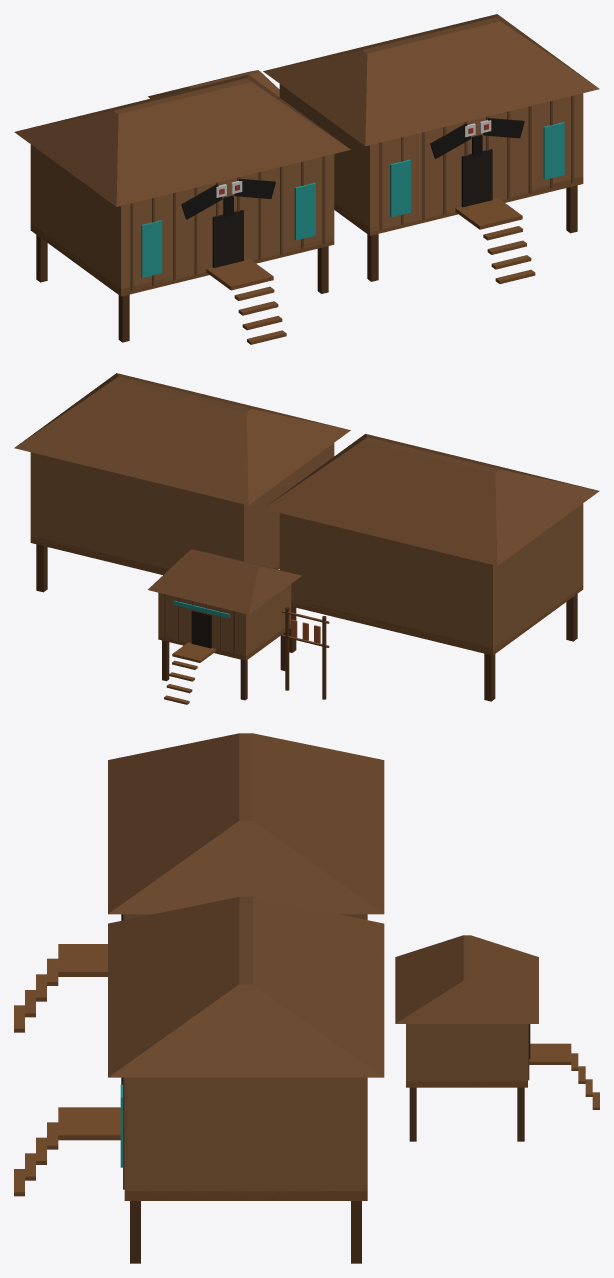
File: bird_row_broken.glb
The picture shows the model from 3 angles, top to bottom: view 1: azimuth 30°, elevation 25°; view 2: azimuth 150°, elevation 25°; view 3: azimuth 270°, elevation 25°; orthographic projection. The views are drawn at different scales.
Parts seen in each view (by area): view 1: bird_row_piece2, bird_row_piece1, bird_row_piece3, bird_row_piece6, bird_row_piece13, bird_row_piece10, bird_row_piece5, bird_row_piece0, bird_row_piece9, bird_row_piece8, bird_row_piece4, bird_row_piece11; view 2: bird_row_piece1, bird_row_piece6, bird_row_piece5, bird_row_piece12, bird_row_piece4, bird_row_piece11, bird_row_piece8, bird_row_piece9, bird_row_piece10, bird_row_piece3, bird_row_piece7, bird_row_piece13 (+1 smaller); view 3: bird_row_piece1, bird_row_piece11, bird_row_piece5, bird_row_piece3, bird_row_piece2, bird_row_piece13, bird_row_piece0, bird_row_piece6, bird_row_piece8, bird_row_piece4, bird_row_piece9, bird_row_piece12 (+1 smaller).
Part boxes in pixels (bbox=[...]): bird_row_piece2: bbox=[162, 86, 309, 344]; bird_row_piece1: bbox=[319, 14, 599, 233]; bird_row_piece3: bbox=[260, 57, 525, 232]; bird_row_piece6: bbox=[14, 111, 159, 282]; bird_row_piece13: bbox=[271, 110, 535, 283]; bird_row_piece10: bbox=[88, 141, 193, 342]; bird_row_piece5: bbox=[97, 77, 257, 169]; bird_row_piece0: bbox=[255, 84, 443, 280]; bird_row_piece9: bbox=[261, 44, 436, 216]; bird_row_piece8: bbox=[188, 75, 334, 293]; bird_row_piece4: bbox=[263, 51, 512, 202]; bird_row_piece11: bbox=[191, 70, 279, 96]; bird_row_piece1: bbox=[14, 373, 232, 592]; bird_row_piece6: bbox=[372, 470, 599, 701]; bird_row_piece5: bbox=[327, 437, 525, 625]; bird_row_piece12: bbox=[212, 560, 359, 700]; bird_row_piece4: bbox=[145, 429, 265, 574]; bird_row_piece11: bbox=[148, 502, 271, 704]; bird_row_piece8: bbox=[265, 452, 345, 617]; bird_row_piece9: bbox=[212, 398, 330, 540]; bird_row_piece10: bbox=[480, 463, 585, 641]; bird_row_piece3: bbox=[192, 391, 336, 483]; bird_row_piece7: bbox=[233, 527, 279, 569]; bird_row_piece13: bbox=[299, 417, 418, 462]; bird_row_piece1: bbox=[108, 912, 384, 1263]; bird_row_piece11: bbox=[357, 911, 599, 1141]; bird_row_piece5: bbox=[146, 733, 384, 871]; bird_row_piece3: bbox=[46, 854, 271, 1162]; bird_row_piece2: bbox=[14, 796, 231, 1032]; bird_row_piece13: bbox=[14, 846, 181, 1196]; bird_row_piece0: bbox=[163, 823, 266, 912]; bird_row_piece6: bbox=[108, 734, 384, 813]; bird_row_piece8: bbox=[259, 841, 384, 919]; bird_row_piece4: bbox=[102, 910, 435, 1140]; bird_row_piece9: bbox=[201, 859, 326, 950]; bird_row_piece12: bbox=[395, 935, 538, 982].
Bounding box in the file's own units: 6.8 × 2.55 × 5.3.
